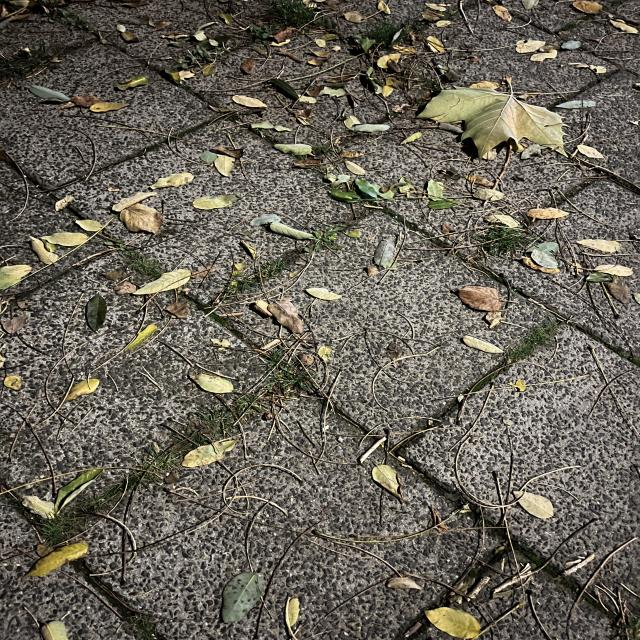leaves: (332, 145, 636, 305), (0, 146, 249, 293), (429, 81, 606, 166), (410, 4, 637, 59), (116, 14, 300, 74), (214, 566, 322, 636), (385, 567, 485, 640), (30, 546, 97, 640), (24, 70, 150, 113), (352, 41, 406, 136), (232, 92, 308, 156), (506, 464, 569, 534), (459, 275, 506, 357), (0, 312, 35, 398), (254, 295, 312, 340), (108, 269, 193, 299), (359, 461, 411, 510), (238, 210, 312, 242), (366, 237, 409, 284), (18, 488, 82, 516), (186, 369, 240, 397), (182, 450, 251, 469), (512, 375, 542, 406), (300, 284, 346, 304)
plants: (519, 549, 624, 624)
weed: (30, 448, 180, 544)
weedling: (494, 546, 505, 554)
